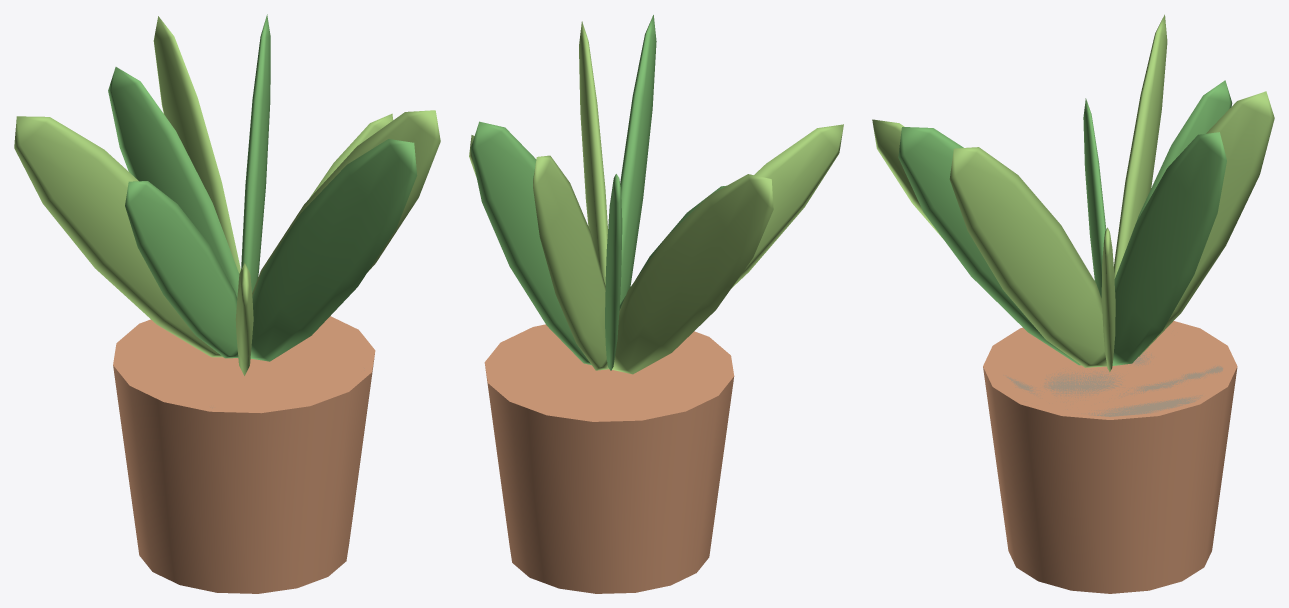
Rendered from SM_PottedPlant.fbx.
3 views of the same model, side by side, from view 1: azimuth 30°, elevation 25°; view 2: azimuth 150°, elevation 25°; view 3: azimuth 270°, elevation 25° (orthographic). The views are drawn at different scales.
Visible parts, largest first — view 1: SM_PottedPlant; view 2: SM_PottedPlant; view 3: SM_PottedPlant.
Part boxes in pixels (x1,y1,x2,y2): SM_PottedPlant: [14, 14, 440, 593]; SM_PottedPlant: [469, 15, 843, 593]; SM_PottedPlant: [872, 14, 1274, 593].
Bounding box in the file's own units: 0.7648 × 0.9914 × 0.7905.
